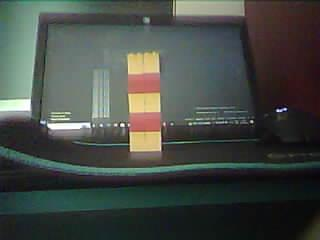lego: (126, 50, 162, 152)
